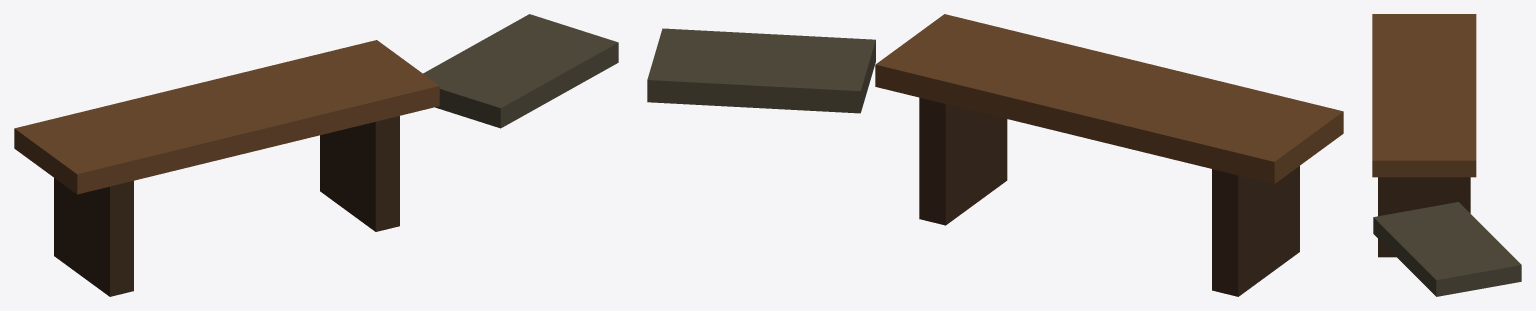
Rendered from bench_wood_broken.fbx.
3 renders of one model, left to right at view 1: azimuth 30°, elevation 25°; view 2: azimuth 150°, elevation 25°; view 3: azimuth 270°, elevation 25°, orthographic. The views are drawn at different scales.
Parts seen in each view (by area): view 1: bench_wood_broken; view 2: bench_wood_broken; view 3: bench_wood_broken.
Part boxes in pixels (<box>): bench_wood_broken: <box>14,14,618,296</box>; bench_wood_broken: <box>647,14,1343,296</box>; bench_wood_broken: <box>1372,14,1521,296</box>.
Size of the model in its own units: 2.4 by 0.53 by 0.6455.
